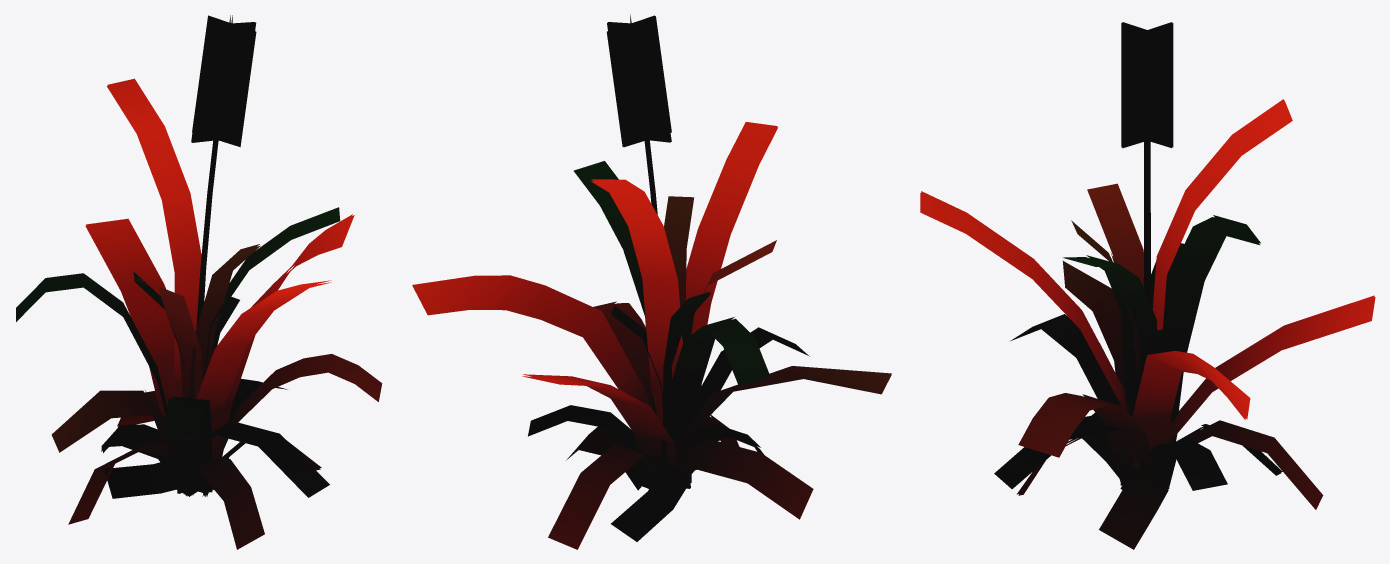
Rendered from Flower02_high.FBX.
3 renders of one model, left to right at view 1: azimuth 30°, elevation 25°; view 2: azimuth 150°, elevation 25°; view 3: azimuth 270°, elevation 25°, orthographic. The views are drawn at different scales.
Visible parts, largest first — view 1: Flower02_high; view 2: Flower02_high; view 3: Flower02_high.
Part boxes in pixels (<box>): Flower02_high: <box>16,15,382,549</box>; Flower02_high: <box>412,14,891,549</box>; Flower02_high: <box>920,22,1375,549</box>.
Size of the model in its own units: 0.6326 by 0.7307 by 0.6076.
